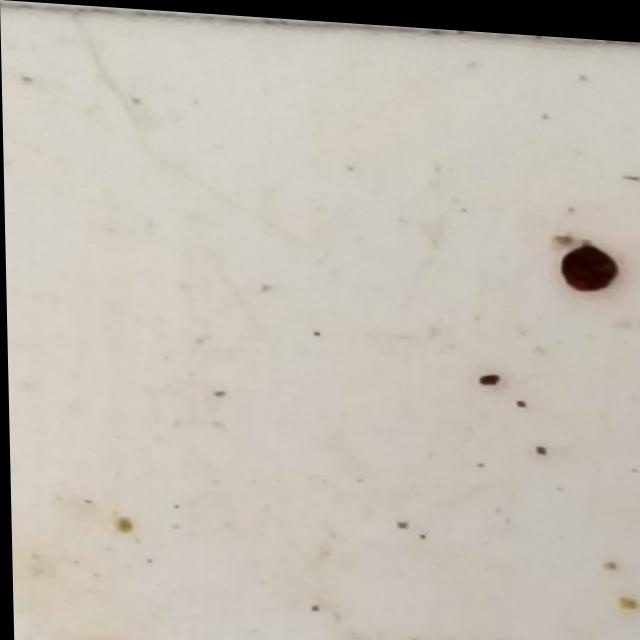varroa: (560, 236, 619, 289)
